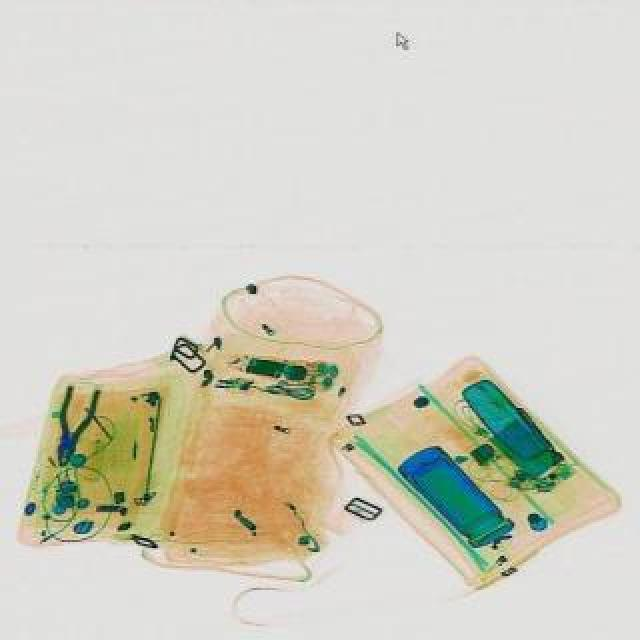wrench: (42, 382, 100, 470)
